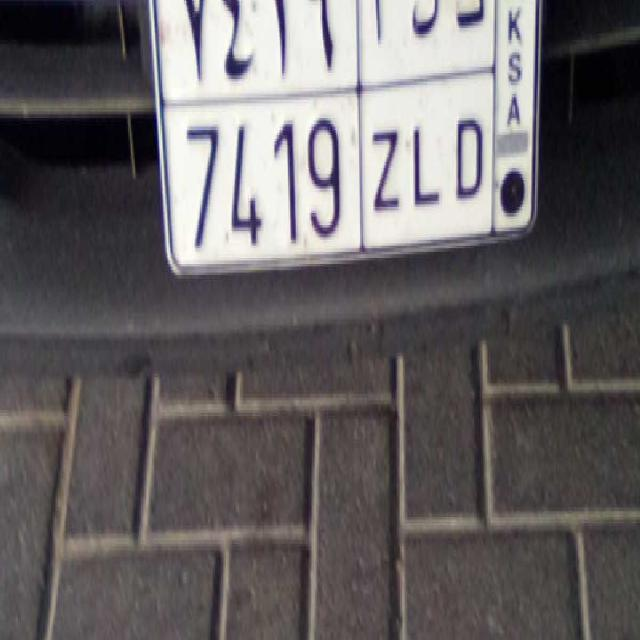license_plate: (162, 81, 493, 262)
